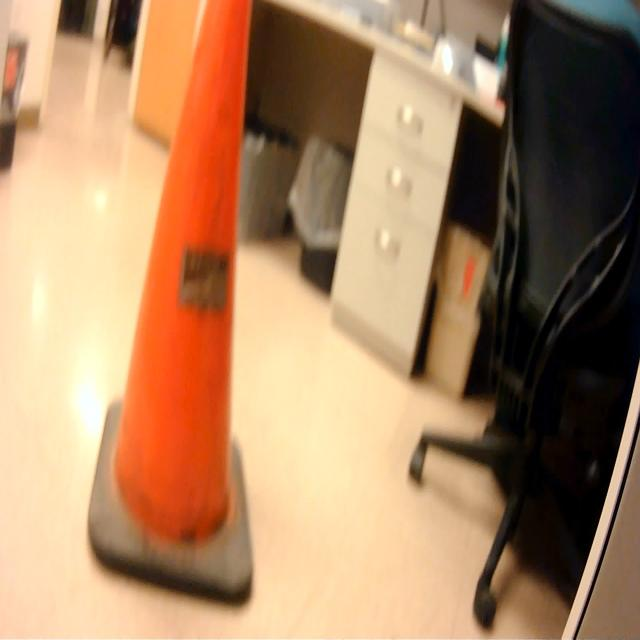traffic cone: (82, 1, 264, 616)
